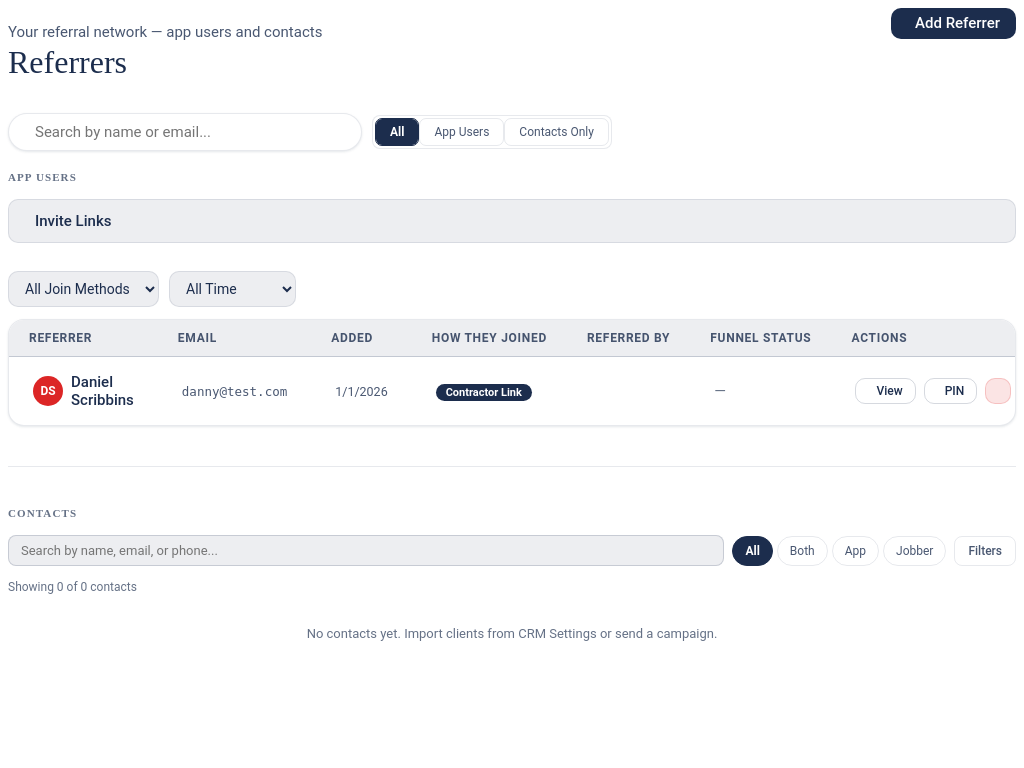
Test case: payout commit (3c) — the admin panel shows the true negative balance and flags it › says plainly that the referrer app shows $0 — so the silence is documented where it is decided
The width and height of the screenshot is (1024, 768).
Click the button "View". click: click(886, 391)
box: [856,378,916,404]
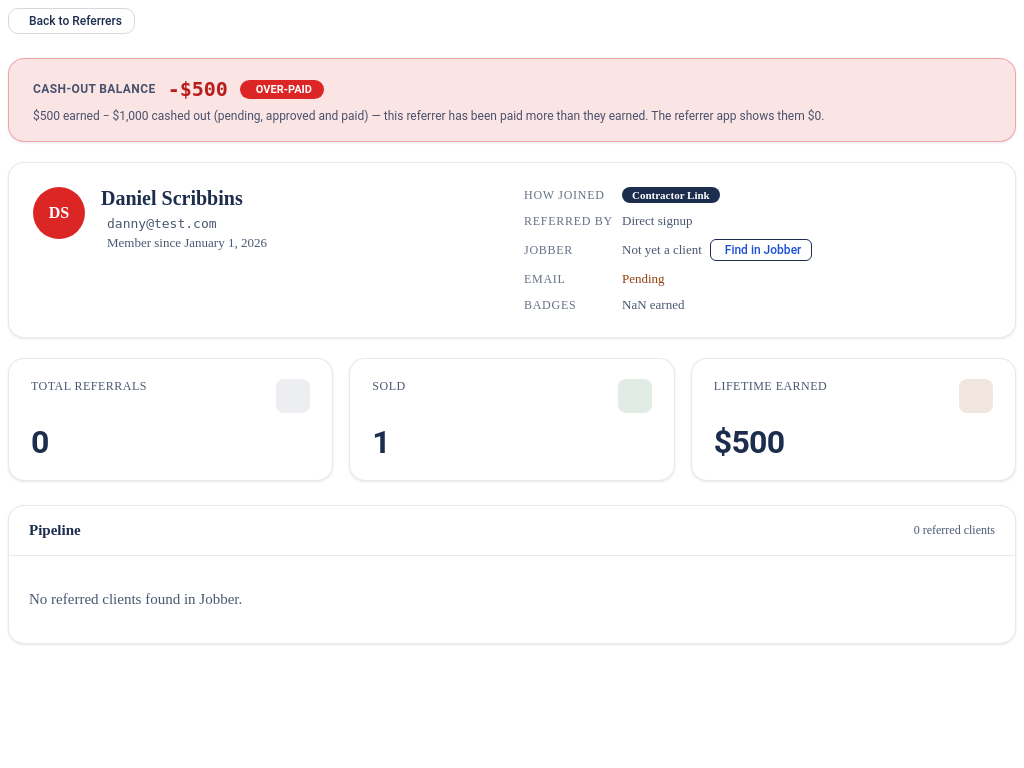
Result: the element that starts with "Cash-out balance" is shown at [8,58,1016,142]
Result: the element that starts with "Cash-out balance" shows "referrer app shows them $0" at [368,109,824,123]
